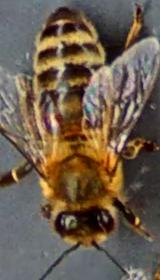varroa_mite: (40, 100, 60, 134)
